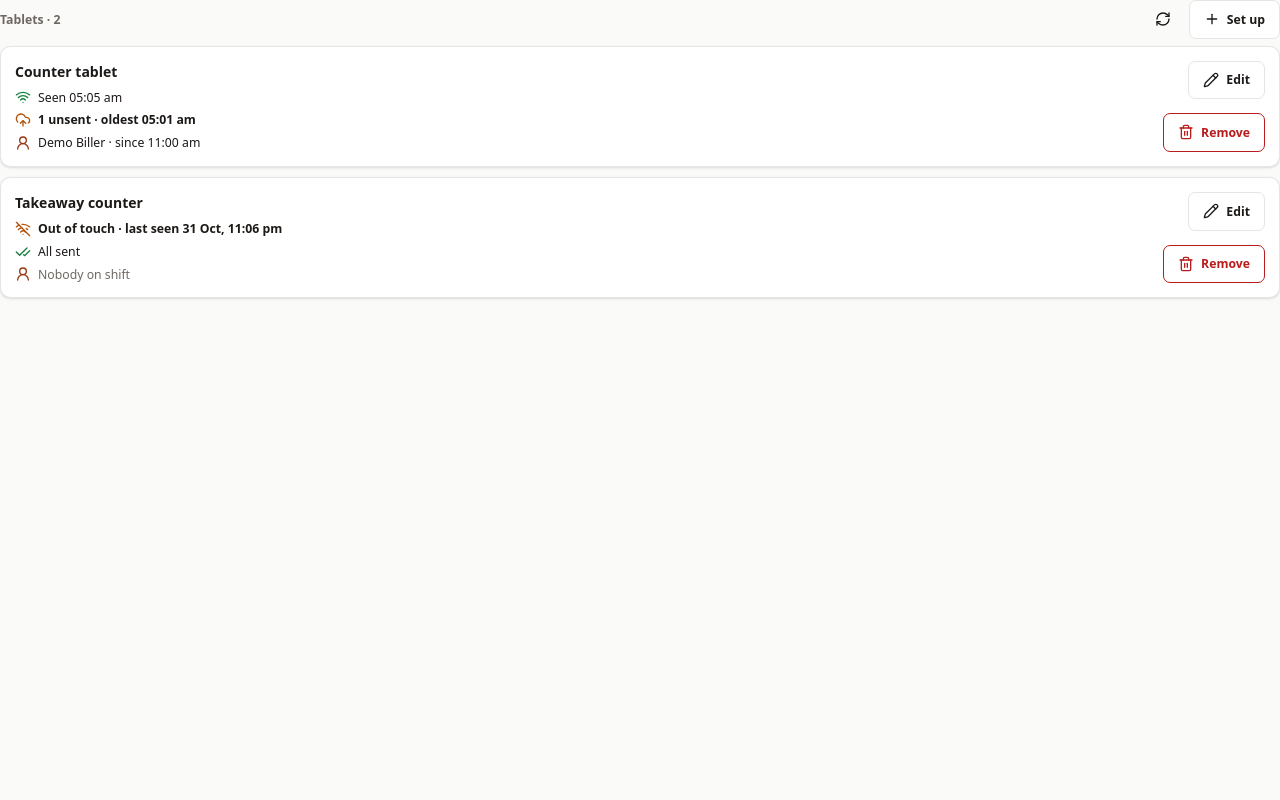
Test: an outlet’s tablets › says only the verb on a tablet’s buttons, and names the tablet to a screen reader
Expected: the button with aria-label "Edit Takeaway counter" reads "Edit", [1188,192,1265,230]
Step 1. Click the button with aria-label "Remove Takeaway counter" → [1214, 264], box [1163,244,1265,283]
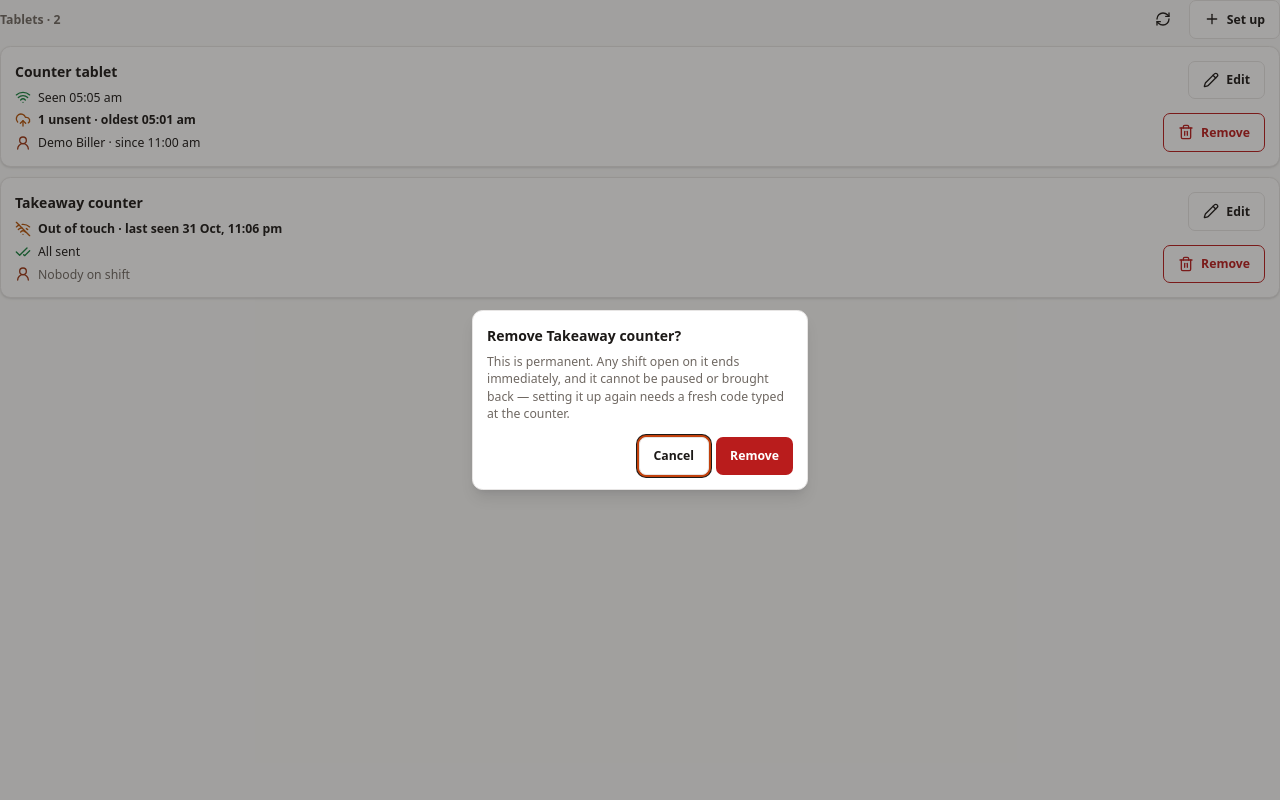
Expected: the dialog "Remove Takeaway counter?" is shown, [472,310,808,490]
